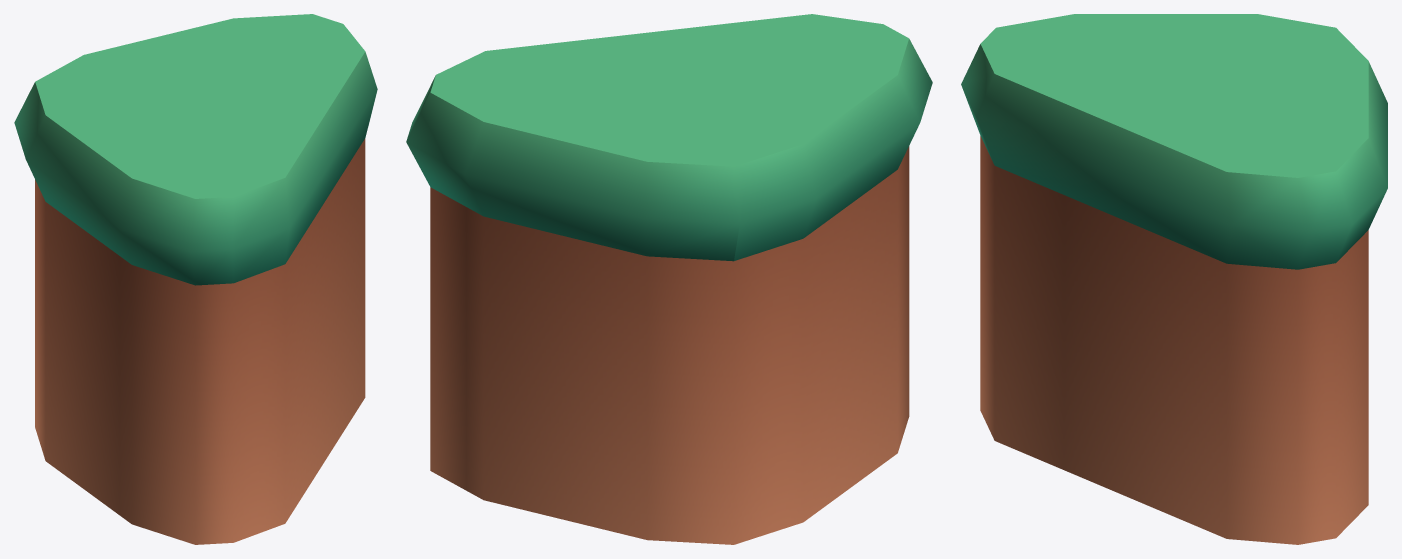
Rendered from block-grass-corner.glb.
3 views of the same model, side by side, from view 1: azimuth 30°, elevation 25°; view 2: azimuth 150°, elevation 25°; view 3: azimuth 270°, elevation 25° (orthographic). The views are drawn at different scales.
Visible parts, largest first — view 1: block-grass-corner; view 2: block-grass-corner; view 3: block-grass-corner.
Boxes of the visible parts, x1,y1,x2,y2 form: block-grass-corner: (14, 14, 377, 544); block-grass-corner: (406, 14, 932, 544); block-grass-corner: (961, 14, 1387, 544).
Bounding box in the file's own units: 1.05 × 1 × 1.05.
1 material, 1 textured.
